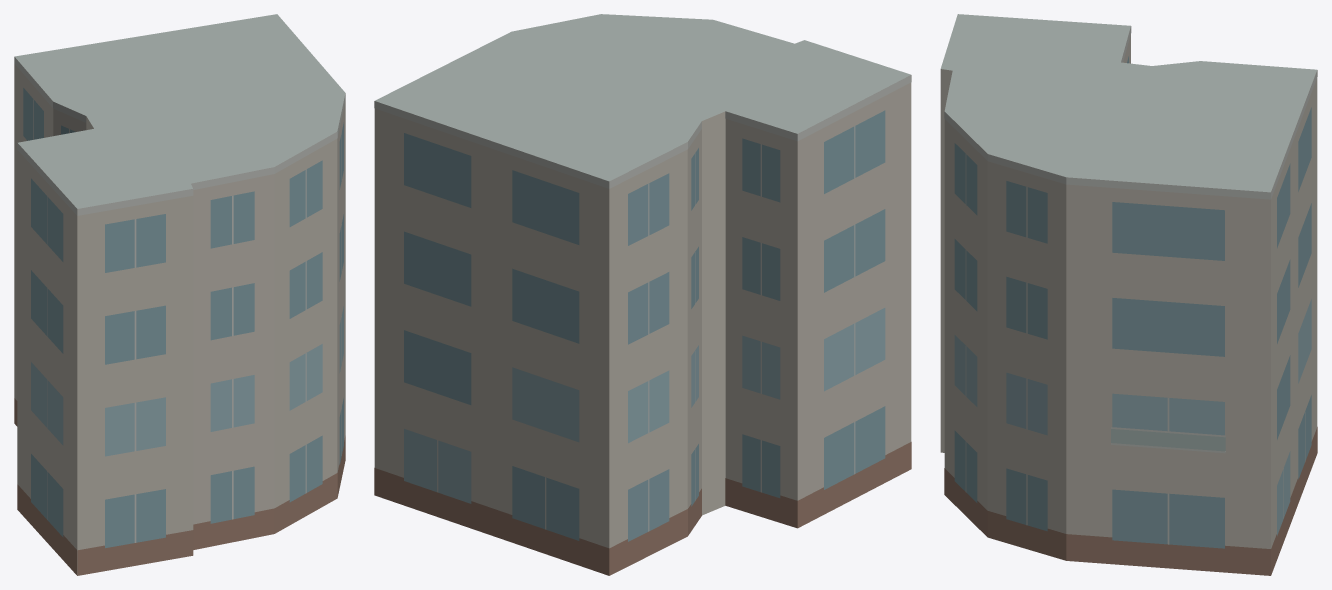
The model's file is survey-upis-32959640.glb.
The picture shows the model from 3 angles, left to right: view 1: azimuth 30°, elevation 25°; view 2: azimuth 150°, elevation 25°; view 3: azimuth 270°, elevation 25°; orthographic projection. The views are drawn at different scales.
Parts seen in each view (by area): view 1: survey-upis-32959640.tmp; view 2: survey-upis-32959640.tmp; view 3: survey-upis-32959640.tmp.
Part boxes in pixels (x1,y1,x2,y2): survey-upis-32959640.tmp: (14, 14, 345, 575); survey-upis-32959640.tmp: (374, 14, 911, 575); survey-upis-32959640.tmp: (940, 14, 1317, 575).
Size of the model in its own units: 12.88 by 12.9 by 11.5.
